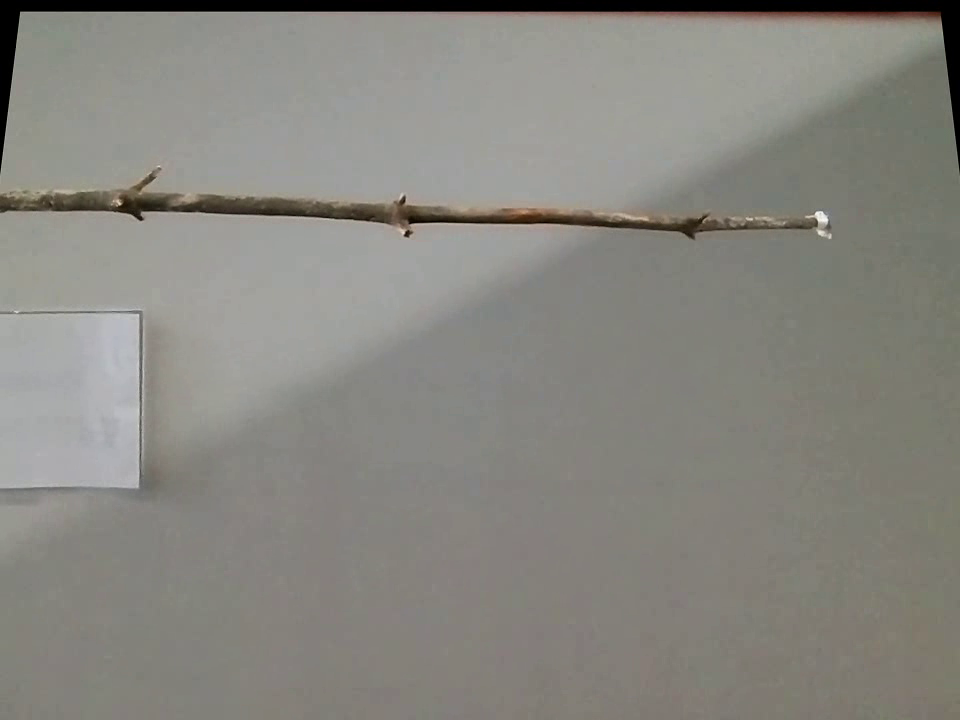branch: (0, 158, 808, 247)
